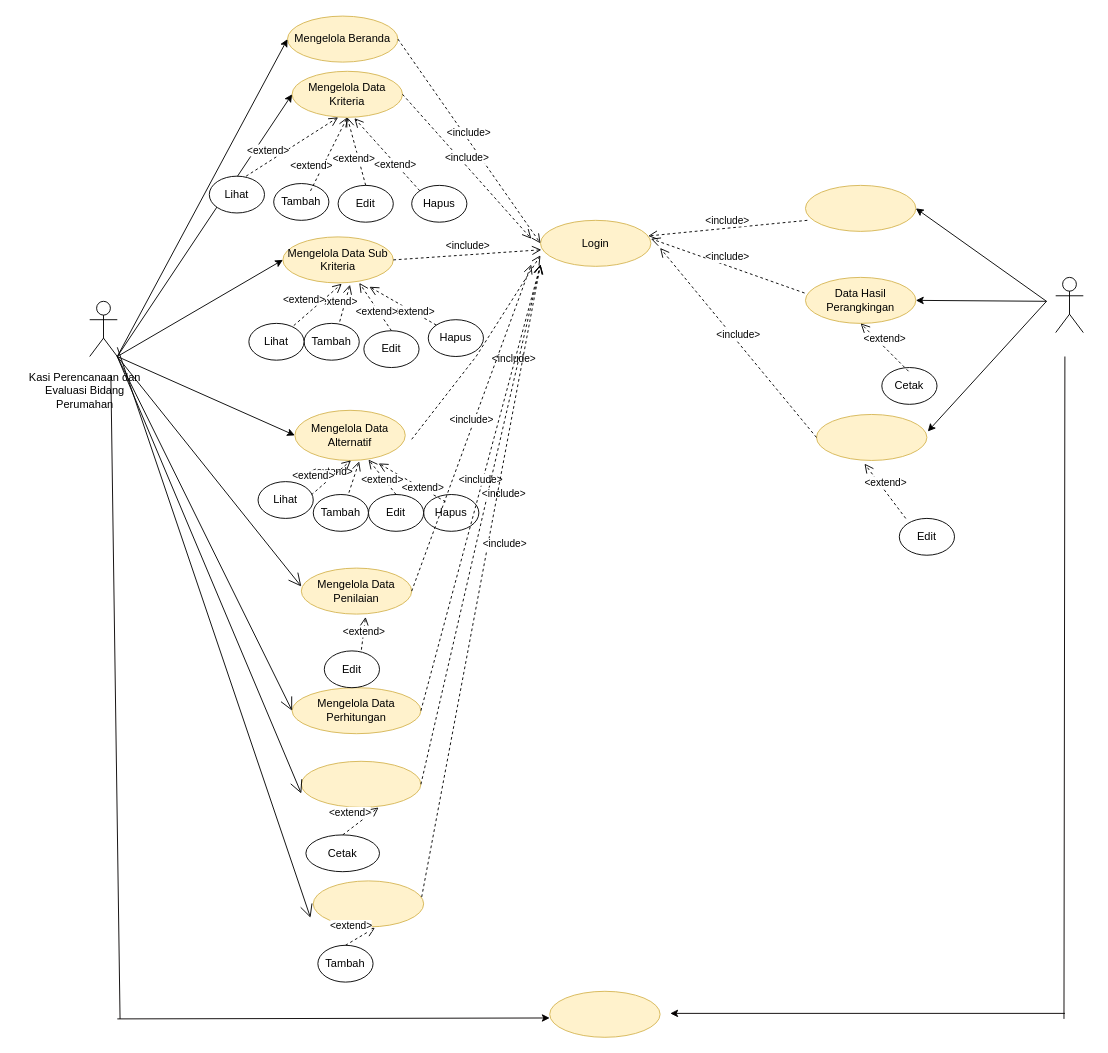
Some shapes in this 1108 by 1053 pixel diagram are drawn without their labels. Each missing label, with the centre of its shape:
"Data Profile" belongs at (x=871, y=437).
"Logout" belongs at (x=604, y=1013).
"Melihat Beranda" belongs at (x=860, y=207).
"Melihat Laporan" belongs at (x=360, y=783).
"Mengelola data user" belongs at (x=368, y=903).
"Pimpinan" belongs at (x=1069, y=304).
